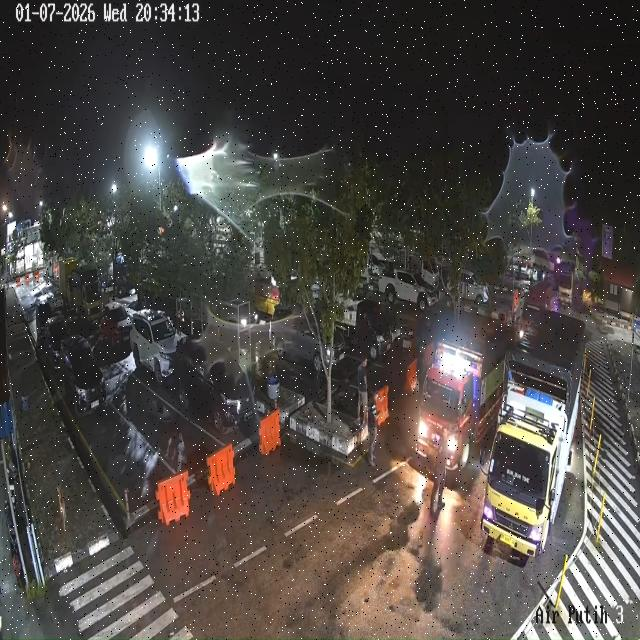Golongan IVA: (174, 339, 258, 433), (269, 304, 345, 375), (59, 335, 106, 418), (130, 309, 180, 385), (41, 314, 70, 370), (100, 301, 132, 348), (36, 301, 54, 344)
Golongan IVB: (378, 270, 439, 312)
Golongan VB: (481, 311, 585, 557), (415, 316, 515, 471), (58, 258, 102, 322)
